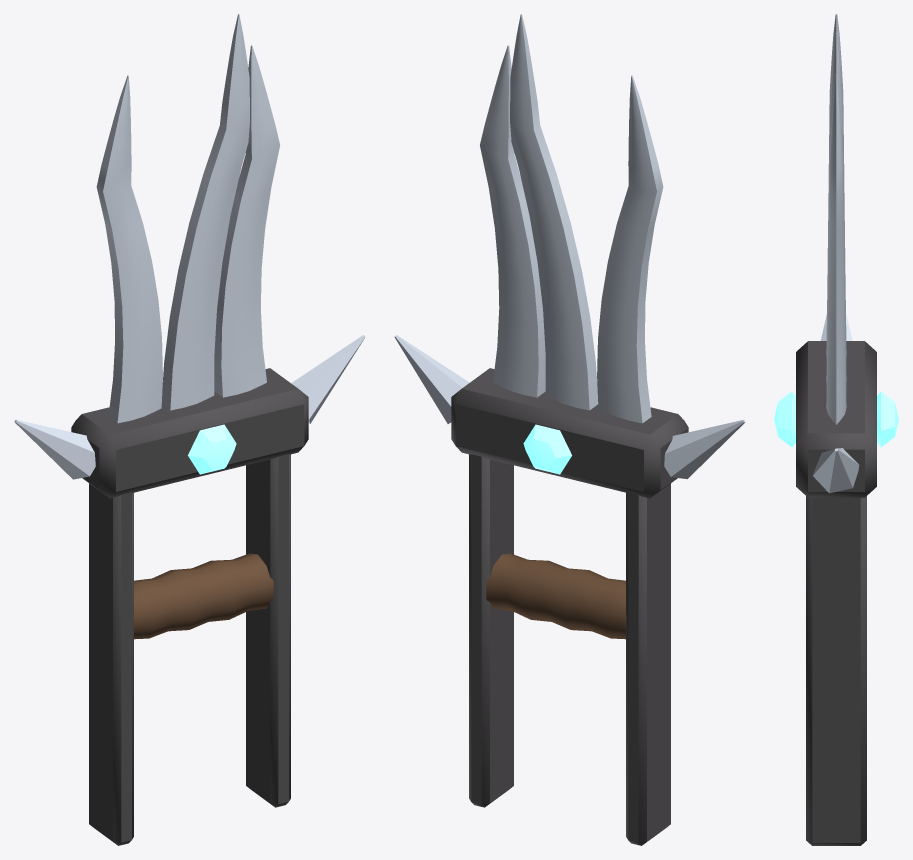
File: depth_keelgrip_talons.glb
3 renders of one model, left to right at view 1: azimuth 30°, elevation 25°; view 2: azimuth 150°, elevation 25°; view 3: azimuth 270°, elevation 25°, orthographic.
Visible parts, largest first — view 1: depth_keelgrip_talons; view 2: depth_keelgrip_talons; view 3: depth_keelgrip_talons.
Boxes of the visible parts, x1=… form: depth_keelgrip_talons: x1=14, y1=14, x2=365, y2=845; depth_keelgrip_talons: x1=394, y1=14, x2=745, y2=845; depth_keelgrip_talons: x1=774, y1=14, x2=898, y2=845.
Bounding box in the file's own units: 0.2009 × 0.433 × 0.0616.
